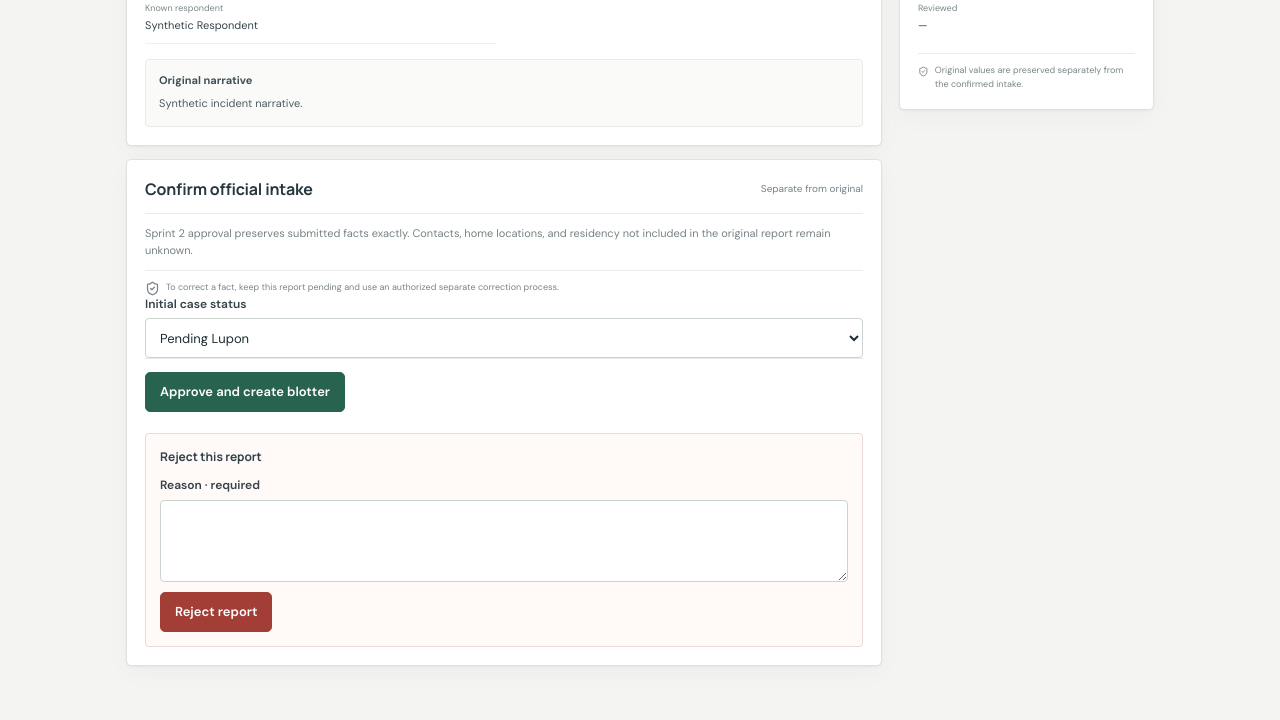
Test: resident report review retries › keeps the conflict notice visible when the latest review state reloads
The width and height of the screenshot is (1280, 720).
(page scrolled)
Click the button "Approve and create blotter" at (245, 392), box [145,372,345,412]
(page scrolled)
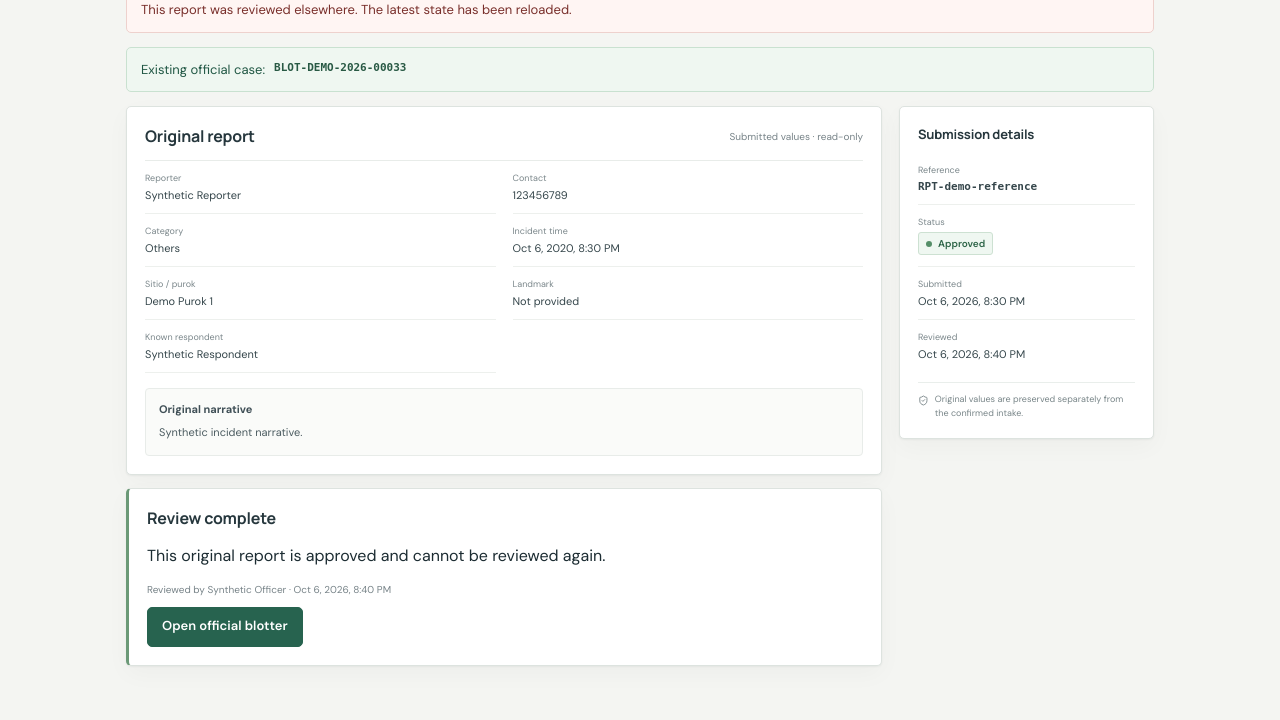
Result: the message reads "This report was reviewed elsewhere. The latest state has been reloaded." at [141,2,572,18]
Result: the text "Existing official case: BLOT-DEMO-2026-00033" is shown at [126,47,1154,92]
Result: the text "approved and cannot be reviewed again" is shown at [147,545,605,566]
